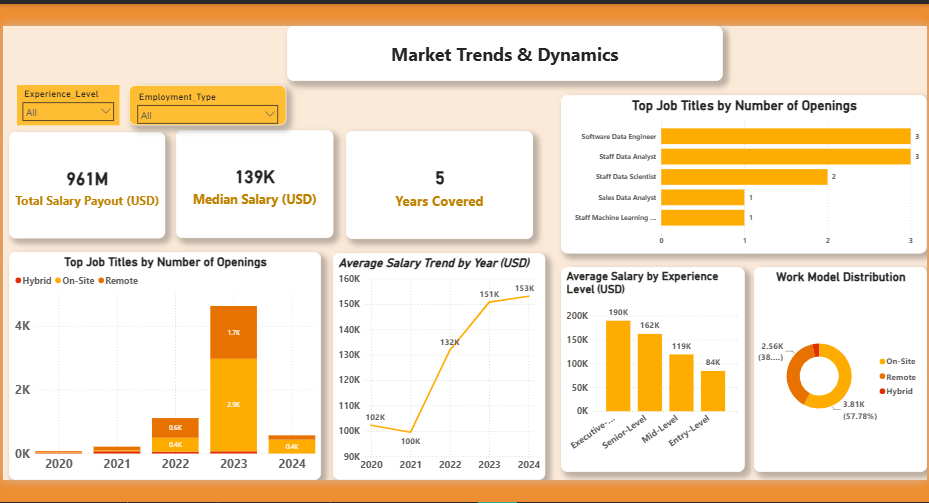

What the dashboard file says about the page in this screenshot:
{"tool":"powerbi","page":{"name":"Market Trend","canvas":[1650,810],"ordinal":1},"visuals":[{"type":"lineChart","title":"Average Salary_In_Usd by Work_Year","fields":{"Category":["data_science_salaries.Work_Year"],"Y":["Avg(data_science_salaries.Salary_In_Usd)"]},"box":[589.7,405.2,379.3,405.2],"z":0},{"type":"clusteredColumnChart","fields":{"Category":["data_science_salaries.Experience_Level"],"Y":["Avg(data_science_salaries.Salary_In_Usd)"]},"box":[996.6,431,327.6,365.5],"z":1000},{"type":"donutChart","fields":{"Category":["data_science_salaries.Work_Models"],"Y":["CountNonNull(data_science_salaries.Experience_Level)"]},"box":[1341.4,431,308.6,365.5],"z":2000},{"type":"card","fields":{"Values":["Sum(data_science_salaries.Salary_In_Usd)"]},"box":[10.3,189.7,279.3,189.7],"z":3000},{"type":"clusteredBarChart","fields":{"Category":["data_science_salaries.Job_title"],"Y":["CountNonNull(data_science_salaries.Experience_Level)"]},"box":[996.6,122.4,653.4,282.8],"z":4000},{"type":"ribbonChart","fields":{"Category":["data_science_salaries.Work_Year"],"Y":["CountNonNull(data_science_salaries.Experience_Level)"],"Series":["data_science_salaries.Work_Models"]},"box":[10.3,403.4,556.9,406.9],"z":5000},{"type":"card","fields":{"Values":["Median(data_science_salaries.Salary_In_Usd)"]},"box":[308.6,186.2,281,193.1],"z":6000},{"type":"card","fields":{"Values":["Count(data_science_salaries.Work_Year)"]},"box":[612.1,187.9,334.5,193.1],"z":7000},{"type":"slicer","fields":{"Values":["data_science_salaries.Experience_Level"]},"box":[24.1,105.2,182.8,72.4],"z":8000},{"type":"slicer","fields":{"Values":["data_science_salaries.Employment_Type"]},"box":[225.9,105.2,281,72.4],"z":9000},{"type":"textbox","box":[506.9,0,777.6,98.3],"z":10000}]}

Visuals, with their boxes on the page's 1650x810 design canvas (x1, y1, x2, y2). These are canvas units, not pixel positions in the 929x503 screenshot, which may show the page scaled, cropped or inside an application window:
"Average Salary_In_Usd by Work_Year" lineChart: 590/405/969/810
clusteredColumnChart - data_science_salaries.Experience_Level x Avg(data_science_salaries.Salary_In_Usd): 997/431/1324/796
donutChart - data_science_salaries.Work_Models x CountNonNull(data_science_salaries.Experience_Level): 1341/431/1650/796
card - Sum(data_science_salaries.Salary_In_Usd): 10/190/290/379
clusteredBarChart - data_science_salaries.Job_title x CountNonNull(data_science_salaries.Experience_Level): 997/122/1650/405
ribbonChart - data_science_salaries.Work_Year x CountNonNull(data_science_salaries.Experience_Level): 10/403/567/810
card - Median(data_science_salaries.Salary_In_Usd): 309/186/590/379
card - Count(data_science_salaries.Work_Year): 612/188/947/381
slicer - data_science_salaries.Experience_Level: 24/105/207/178
slicer - data_science_salaries.Employment_Type: 226/105/507/178
textbox: 507/0/1284/98
